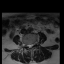CCS_stenosis: (29, 42, 31, 49)
LFS_normal: (33, 40, 35, 47)
LLS_normal: (31, 42, 33, 48)
RFS_normal: (26, 42, 27, 48)
RLS_normal: (27, 41, 29, 49)
